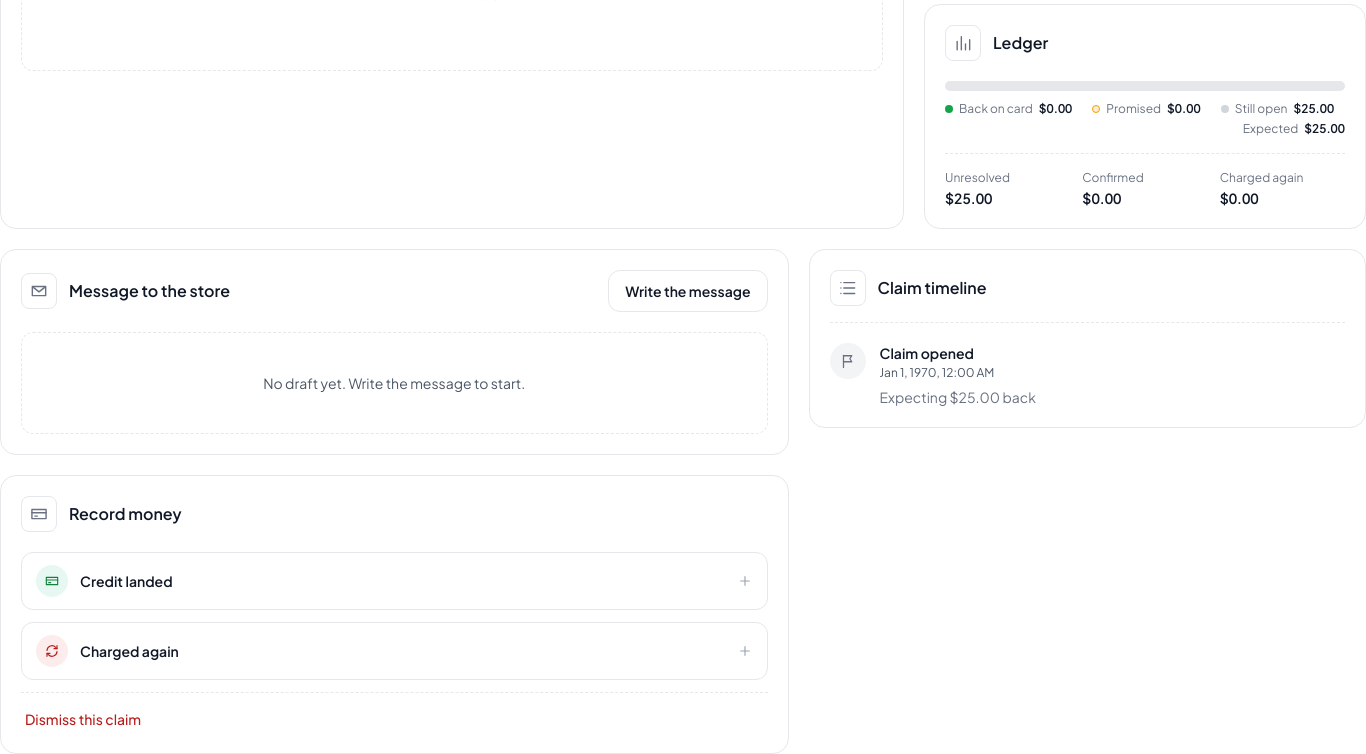
it: Credit landed asks how it came back (DA-B-10) › requires a choice before anything is recorded
(page scrolled)
Click the heading "Credit landed" at (52, 581), box [36,565,752,597]
(page scrolled)
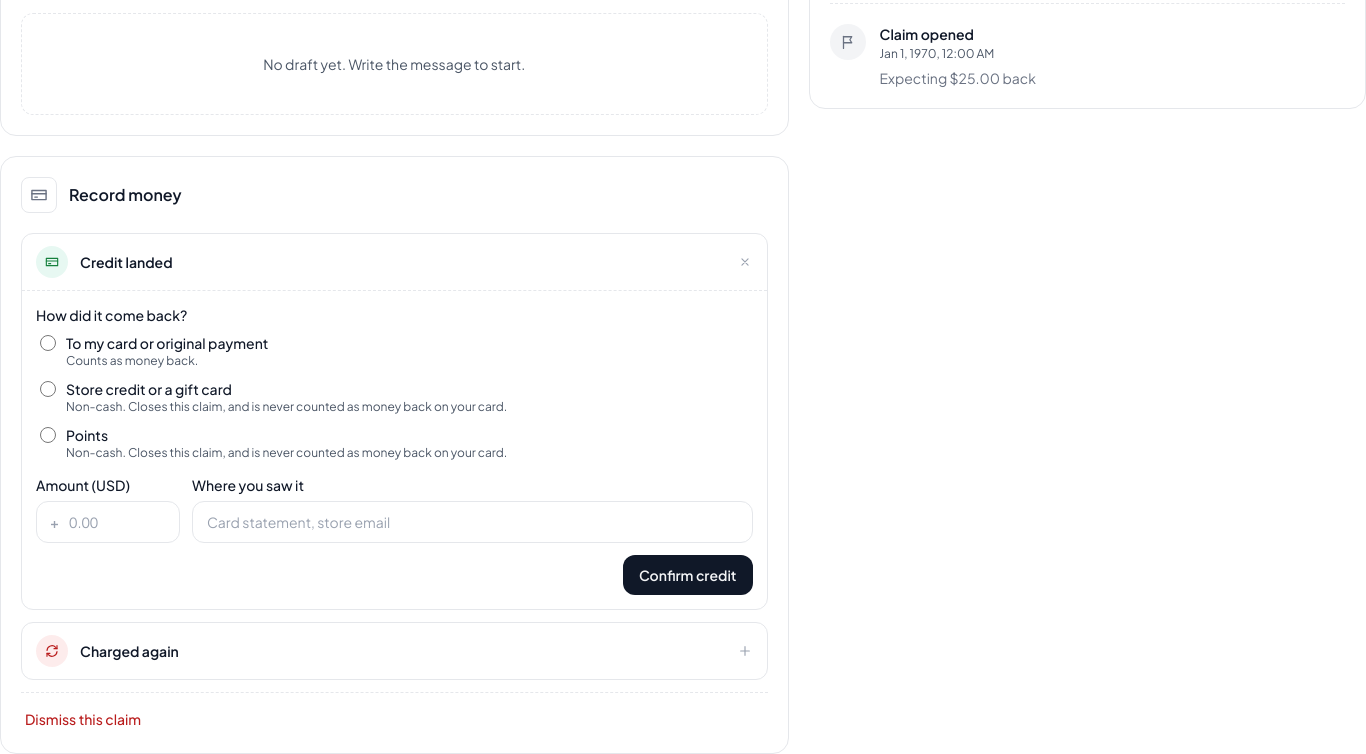
Type "25.00" into the field labelled "Amount (USD)" at (108, 522), box [36,501,180,543]
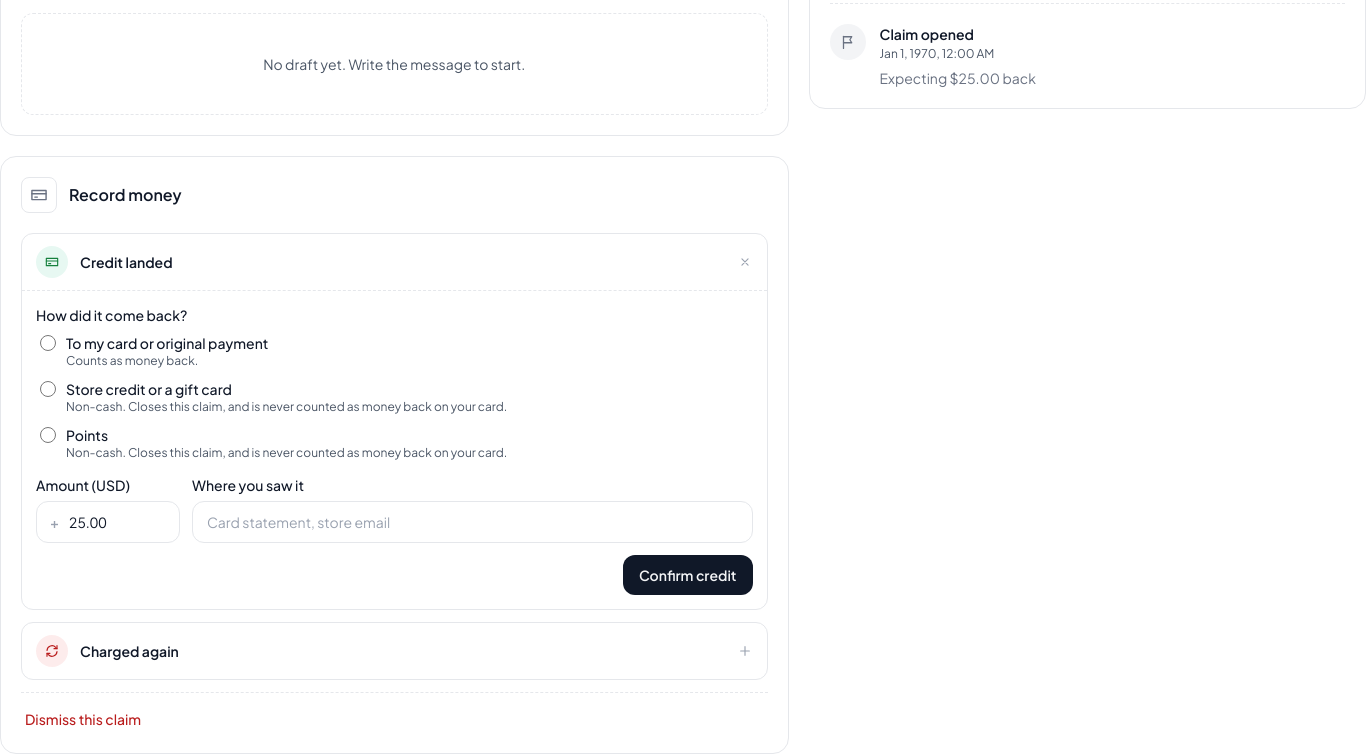
Click the button "Confirm credit" at (688, 575), box [623,555,752,595]
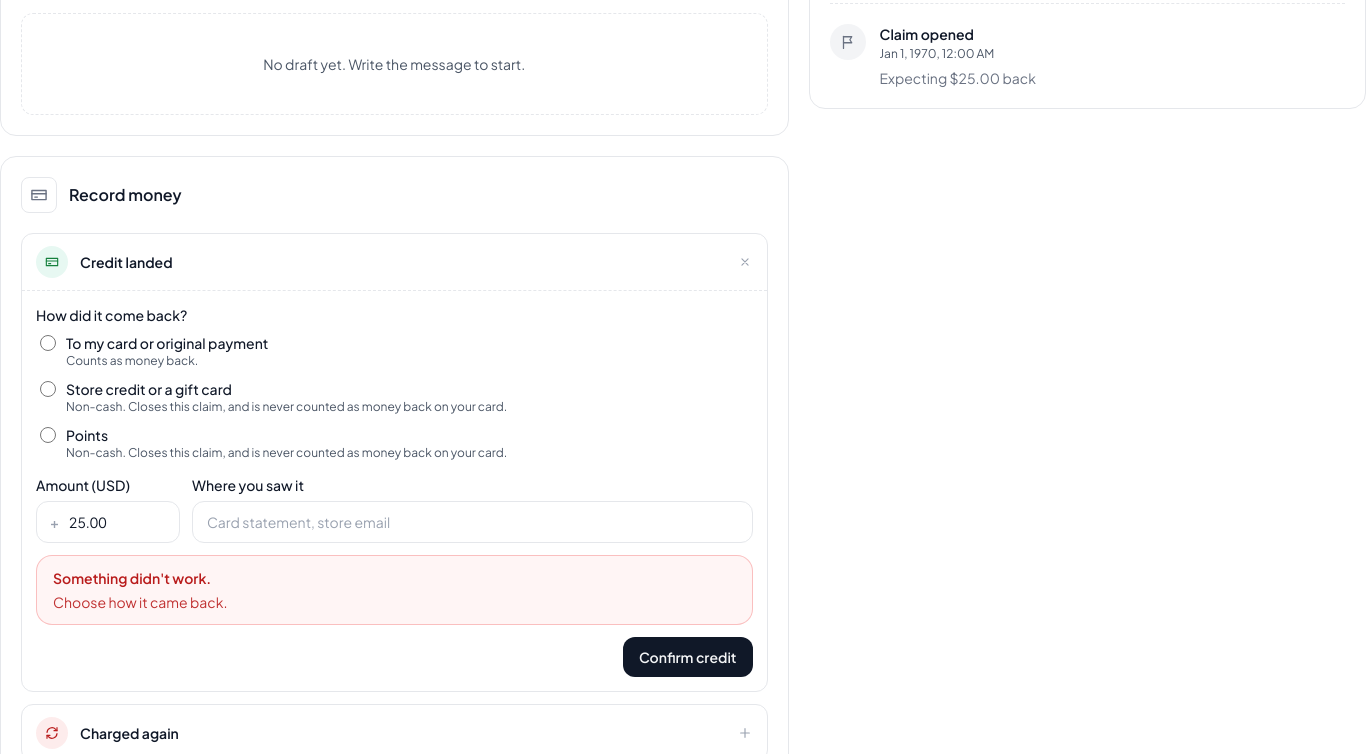
expect the message shows "Choose how it came back.": met, box [53,593,227,611]
